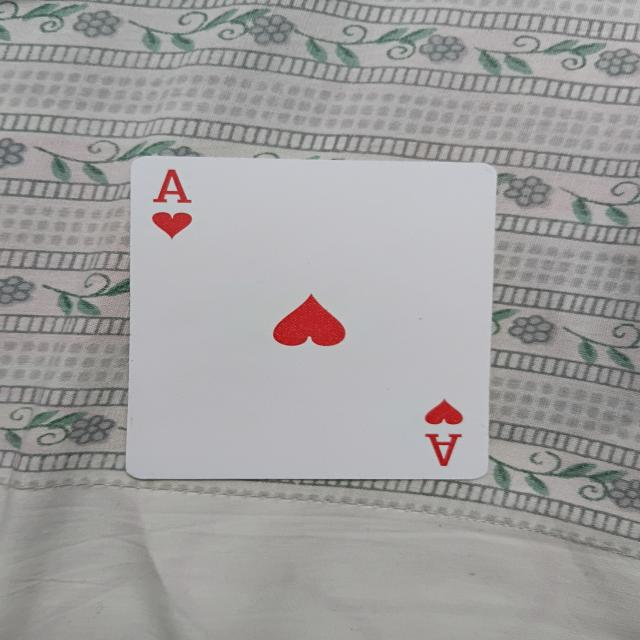AH: (126, 154, 492, 483)
